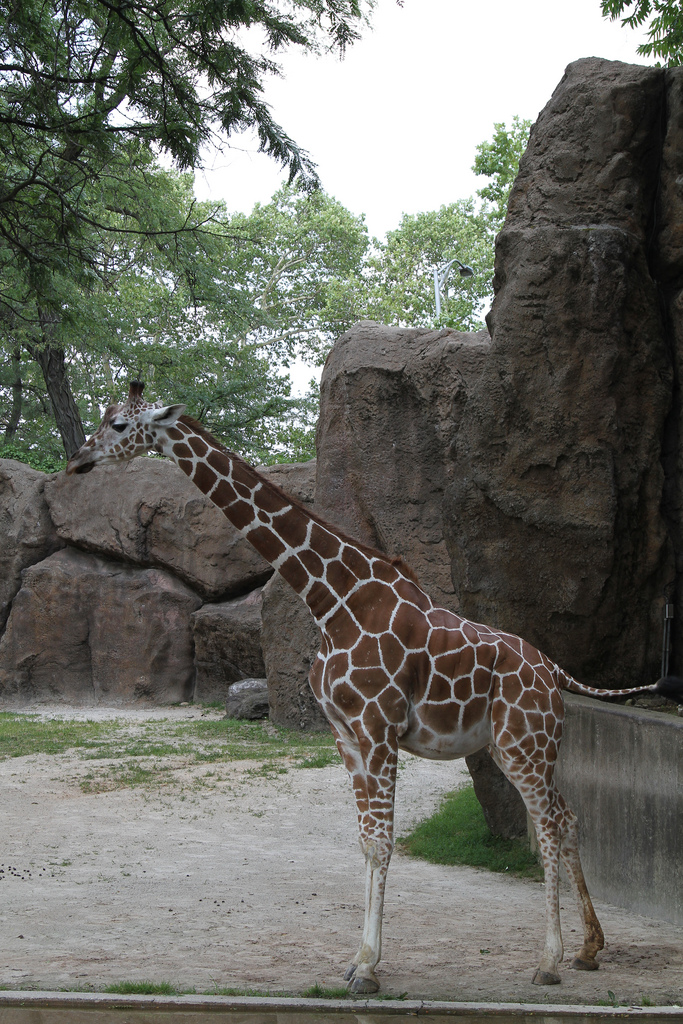giraffe: (51, 375, 647, 964)
